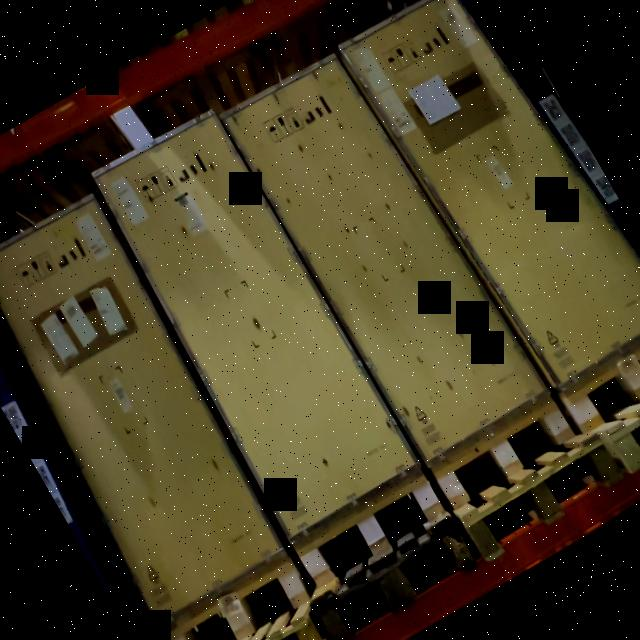box: (94, 109, 421, 538), (224, 52, 536, 466), (0, 197, 287, 614), (356, 0, 640, 388)
